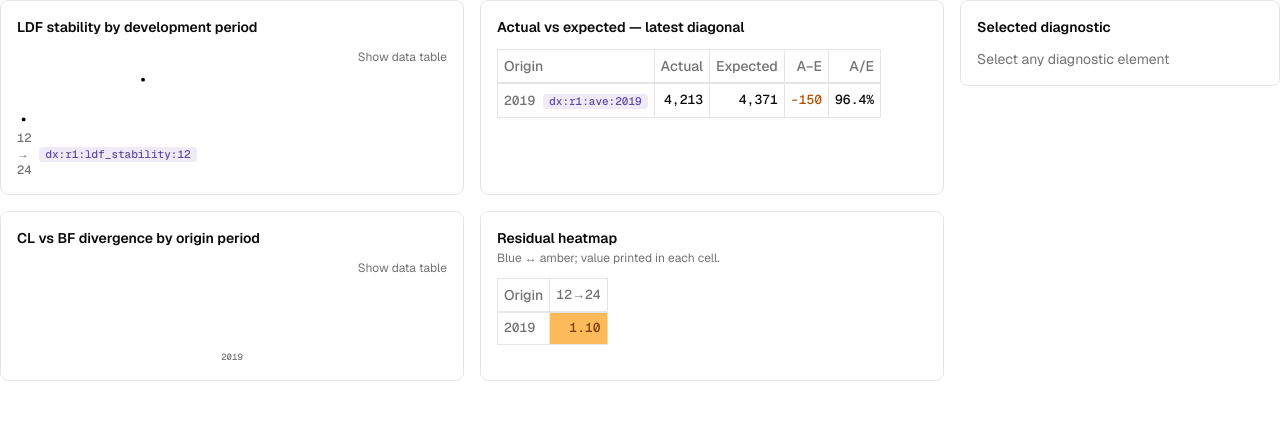
Test: DiagnosticContextRail + selection (Story 4.6) › "cited by N report claims" backlink › N >= 2 → plural 'Cited by N report claims.'
Click the button "dx:r1:ave:2019". click: coordinates (595, 102)
box: top-left (543, 94), bottom-right (648, 109)
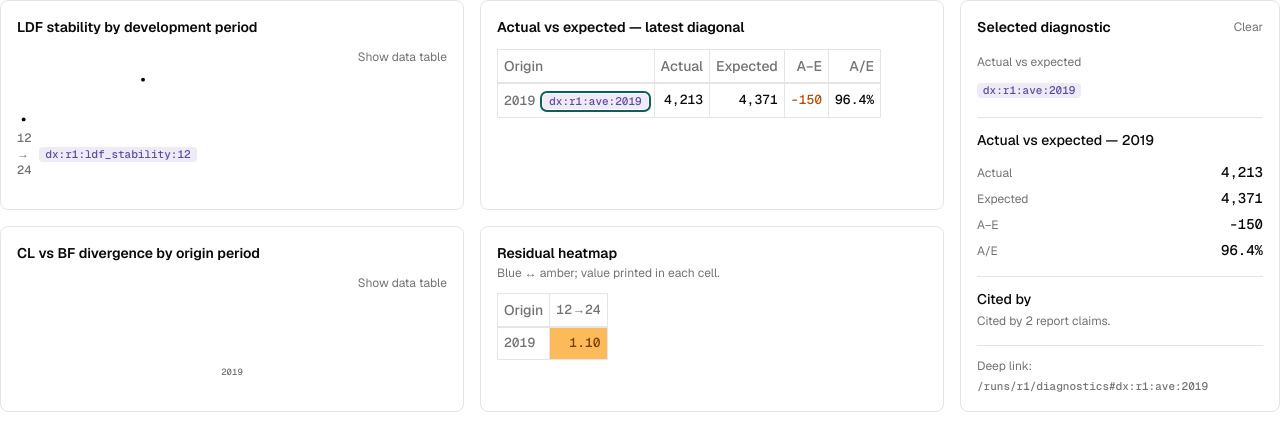
expect the text "Cited by 2 report claims." is shown: met, box top-left (977, 313), bottom-right (1110, 329)
